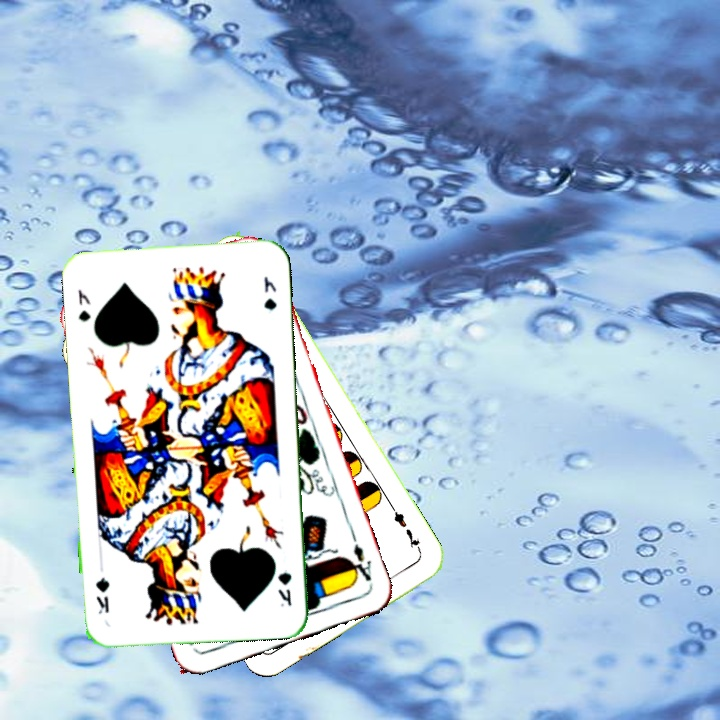E7: (387, 503, 424, 556)
EA: (344, 540, 374, 585)
GK: (274, 567, 294, 609), (74, 285, 93, 324)
